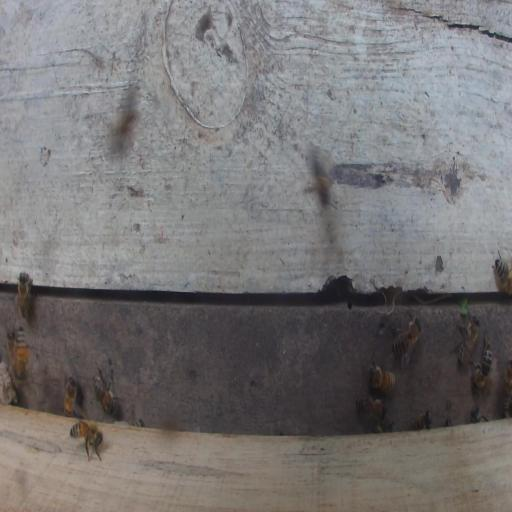nonpollenbee: (69, 399, 105, 462), (310, 141, 340, 210), (386, 315, 422, 371), (448, 311, 481, 371), (92, 357, 119, 417), (365, 350, 397, 396), (468, 332, 493, 390), (490, 248, 512, 296), (16, 269, 35, 323), (354, 395, 386, 425), (63, 373, 79, 418), (408, 407, 433, 431), (6, 323, 17, 376), (468, 404, 491, 427), (502, 357, 511, 410)
pollenbee: (15, 325, 30, 383)
